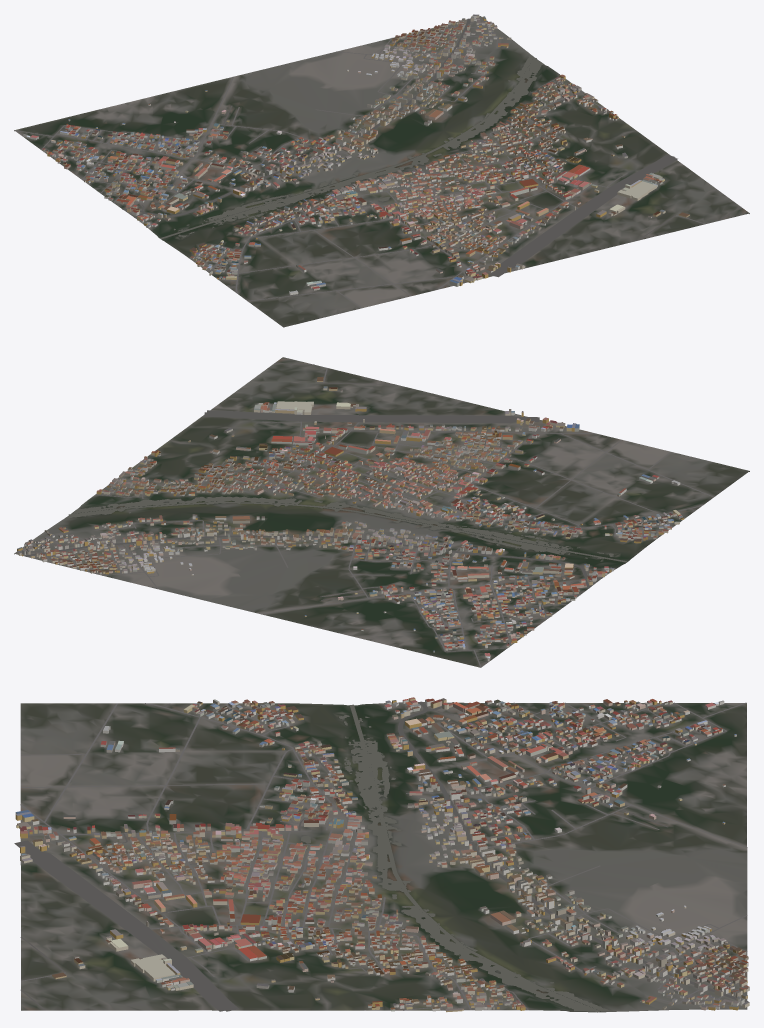
3 renders of one model, top to bottom at view 1: azimuth 30°, elevation 25°; view 2: azimuth 150°, elevation 25°; view 3: azimuth 270°, elevation 25°, orthographic. The views are drawn at different scales.
Visible parts, largest first — view 1: ground, buildings, roads, water; view 2: ground, buildings, roads, water; view 3: ground, buildings, roads, water.
Boxes of the visible parts, left/top/right/bottom form: ground: left=14, top=16, right=749, bottom=327; buildings: left=23, top=14, right=689, bottom=294; roads: left=14, top=18, right=740, bottom=308; water: left=160, top=54, right=543, bottom=239; ground: left=14, top=357, right=749, bottom=667; buildings: left=17, top=377, right=684, bottom=661; roads: left=22, top=363, right=713, bottom=667; water: left=65, top=496, right=627, bottom=562; ground: left=20, top=702, right=747, bottom=1012; buildings: left=15, top=697, right=749, bottom=1012; roads: left=14, top=701, right=748, bottom=1011; water: left=301, top=704, right=611, bottom=1012.
Bounding box in the file's own units: 1416 × 24.46 × 1420.
